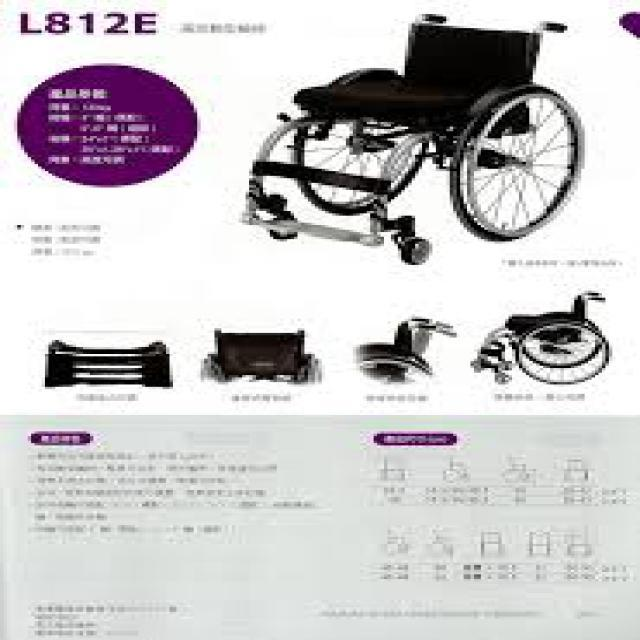wheelchair: (214, 2, 598, 265), (467, 286, 616, 396)
